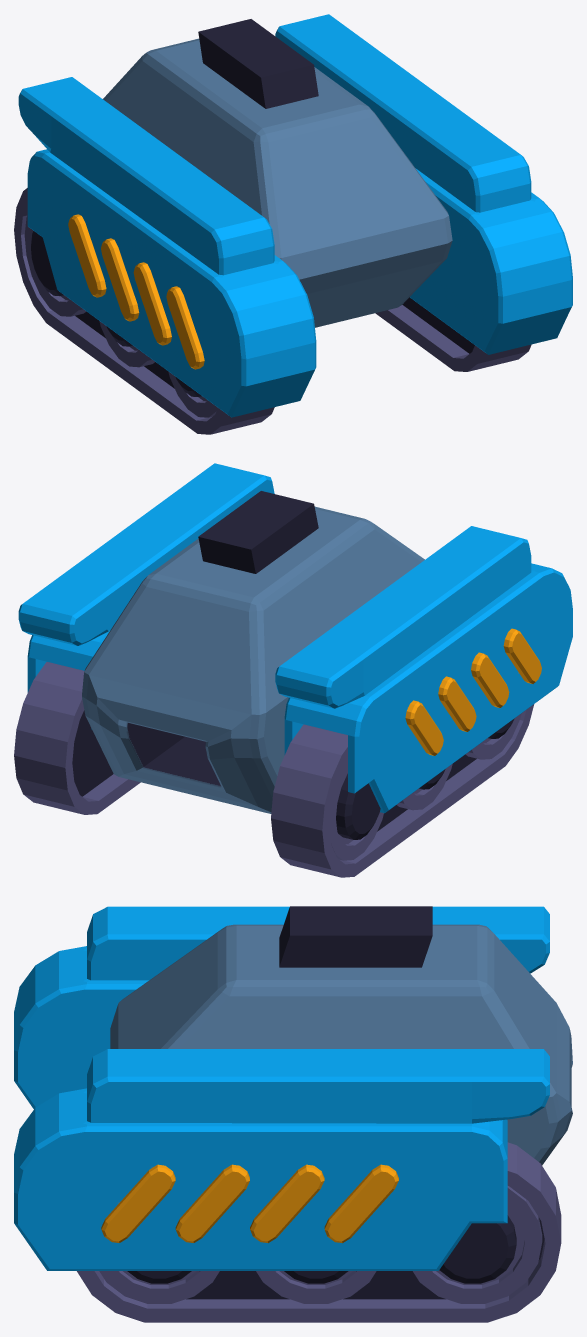
File: tank2 body.fbx
3 renders of one model, top to bottom at view 1: azimuth 30°, elevation 25°; view 2: azimuth 150°, elevation 25°; view 3: azimuth 270°, elevation 25°, orthographic. The views are drawn at different scales.
Visible parts, largest first — view 1: body tank 2; view 2: body tank 2; view 3: body tank 2.
Boxes of the visible parts, left/top/right/bottom form: body tank 2: left=14, top=14, right=572, bottom=434; body tank 2: left=14, top=463, right=572, bottom=877; body tank 2: left=14, top=906, right=572, bottom=1322.
Size of the model in its own units: 128 by 97.98 by 157.
